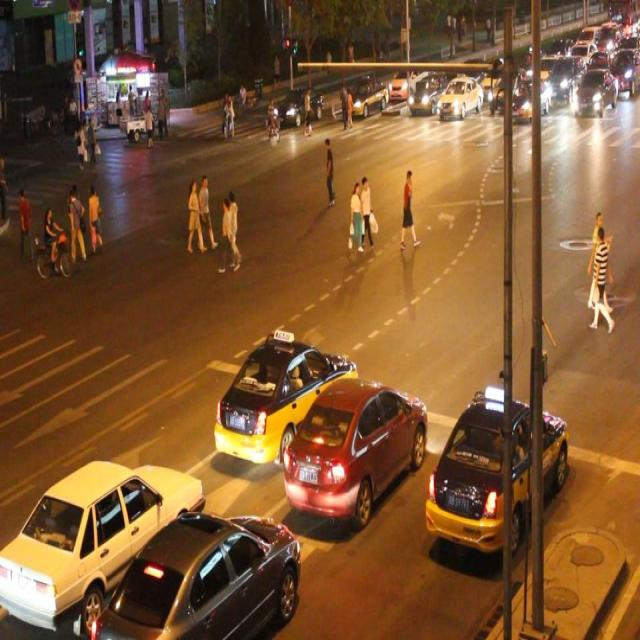car: (1, 457, 204, 630), (95, 514, 302, 640), (426, 396, 568, 555), (281, 374, 426, 524), (214, 336, 357, 464), (436, 75, 481, 117), (345, 74, 386, 120), (274, 87, 324, 124), (408, 71, 446, 112)
